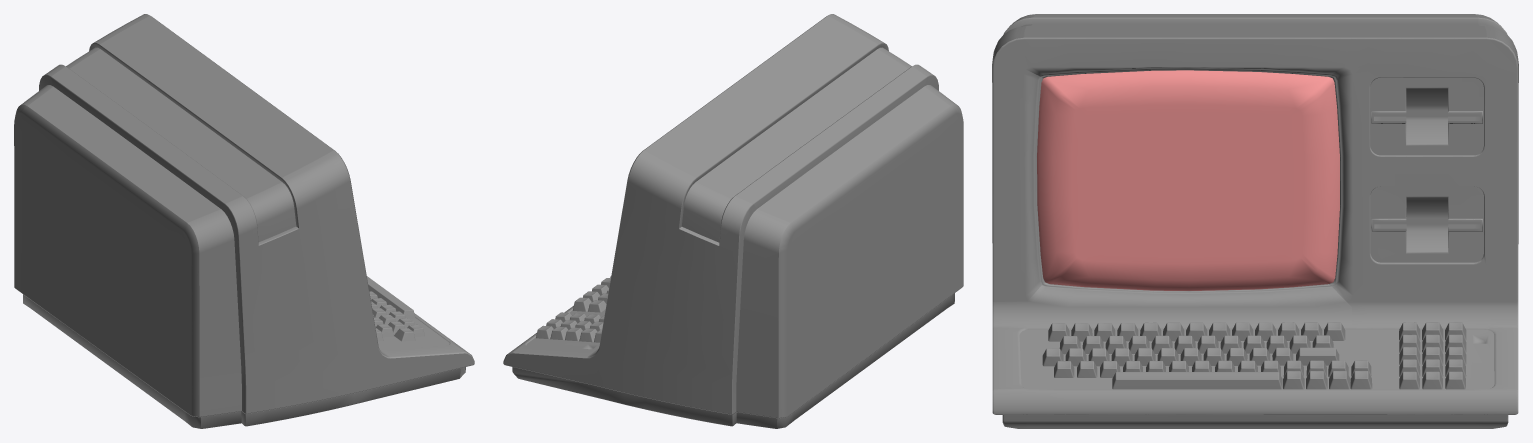
The model's file is ControlRoom_Computer_01.gltf.
3 renders of one model, left to right at view 1: azimuth 30°, elevation 25°; view 2: azimuth 150°, elevation 25°; view 3: azimuth 270°, elevation 25°, orthographic. The views are drawn at different scales.
Visible parts, largest first — view 1: ControlRoom_Computer_01; view 2: ControlRoom_Computer_01; view 3: ControlRoom_Computer_01.
Part boxes in pixels (<box>): ControlRoom_Computer_01: <box>14,14,474,428</box>; ControlRoom_Computer_01: <box>503,14,963,428</box>; ControlRoom_Computer_01: <box>992,14,1518,428</box>.
Size of the model in its own units: 7.57 by 6.9 by 10.22.
